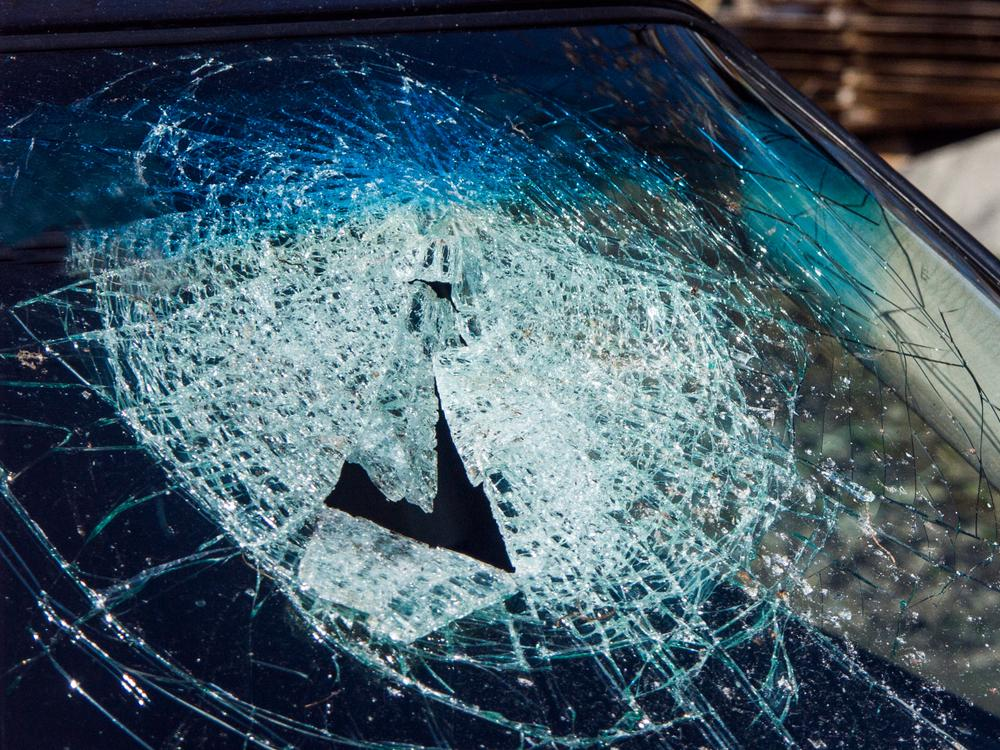glass shatter: (0, 22, 1000, 750)
